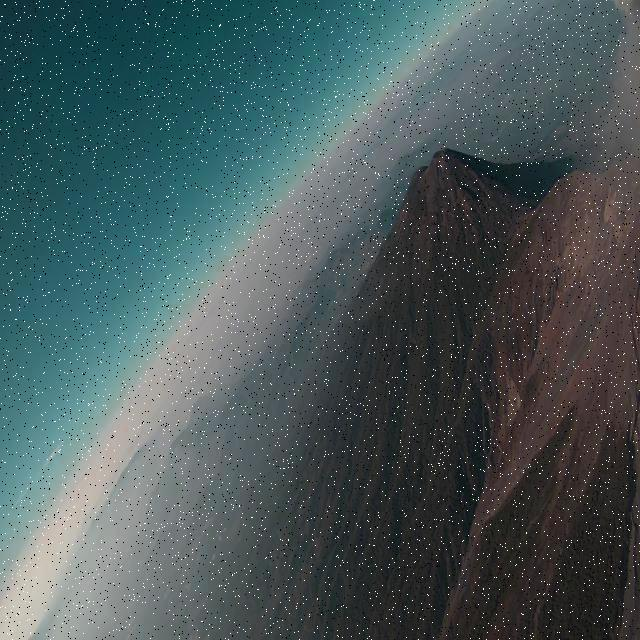Plume: (602, 2, 640, 202)
